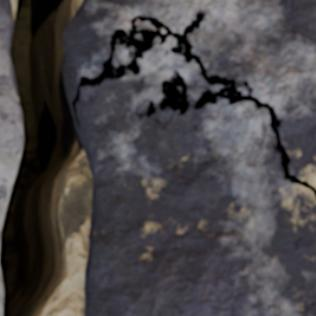brick: (77, 37, 315, 315), (64, 0, 315, 185), (0, 0, 22, 236), (0, 270, 2, 315)
crack: (0, 0, 315, 315)
